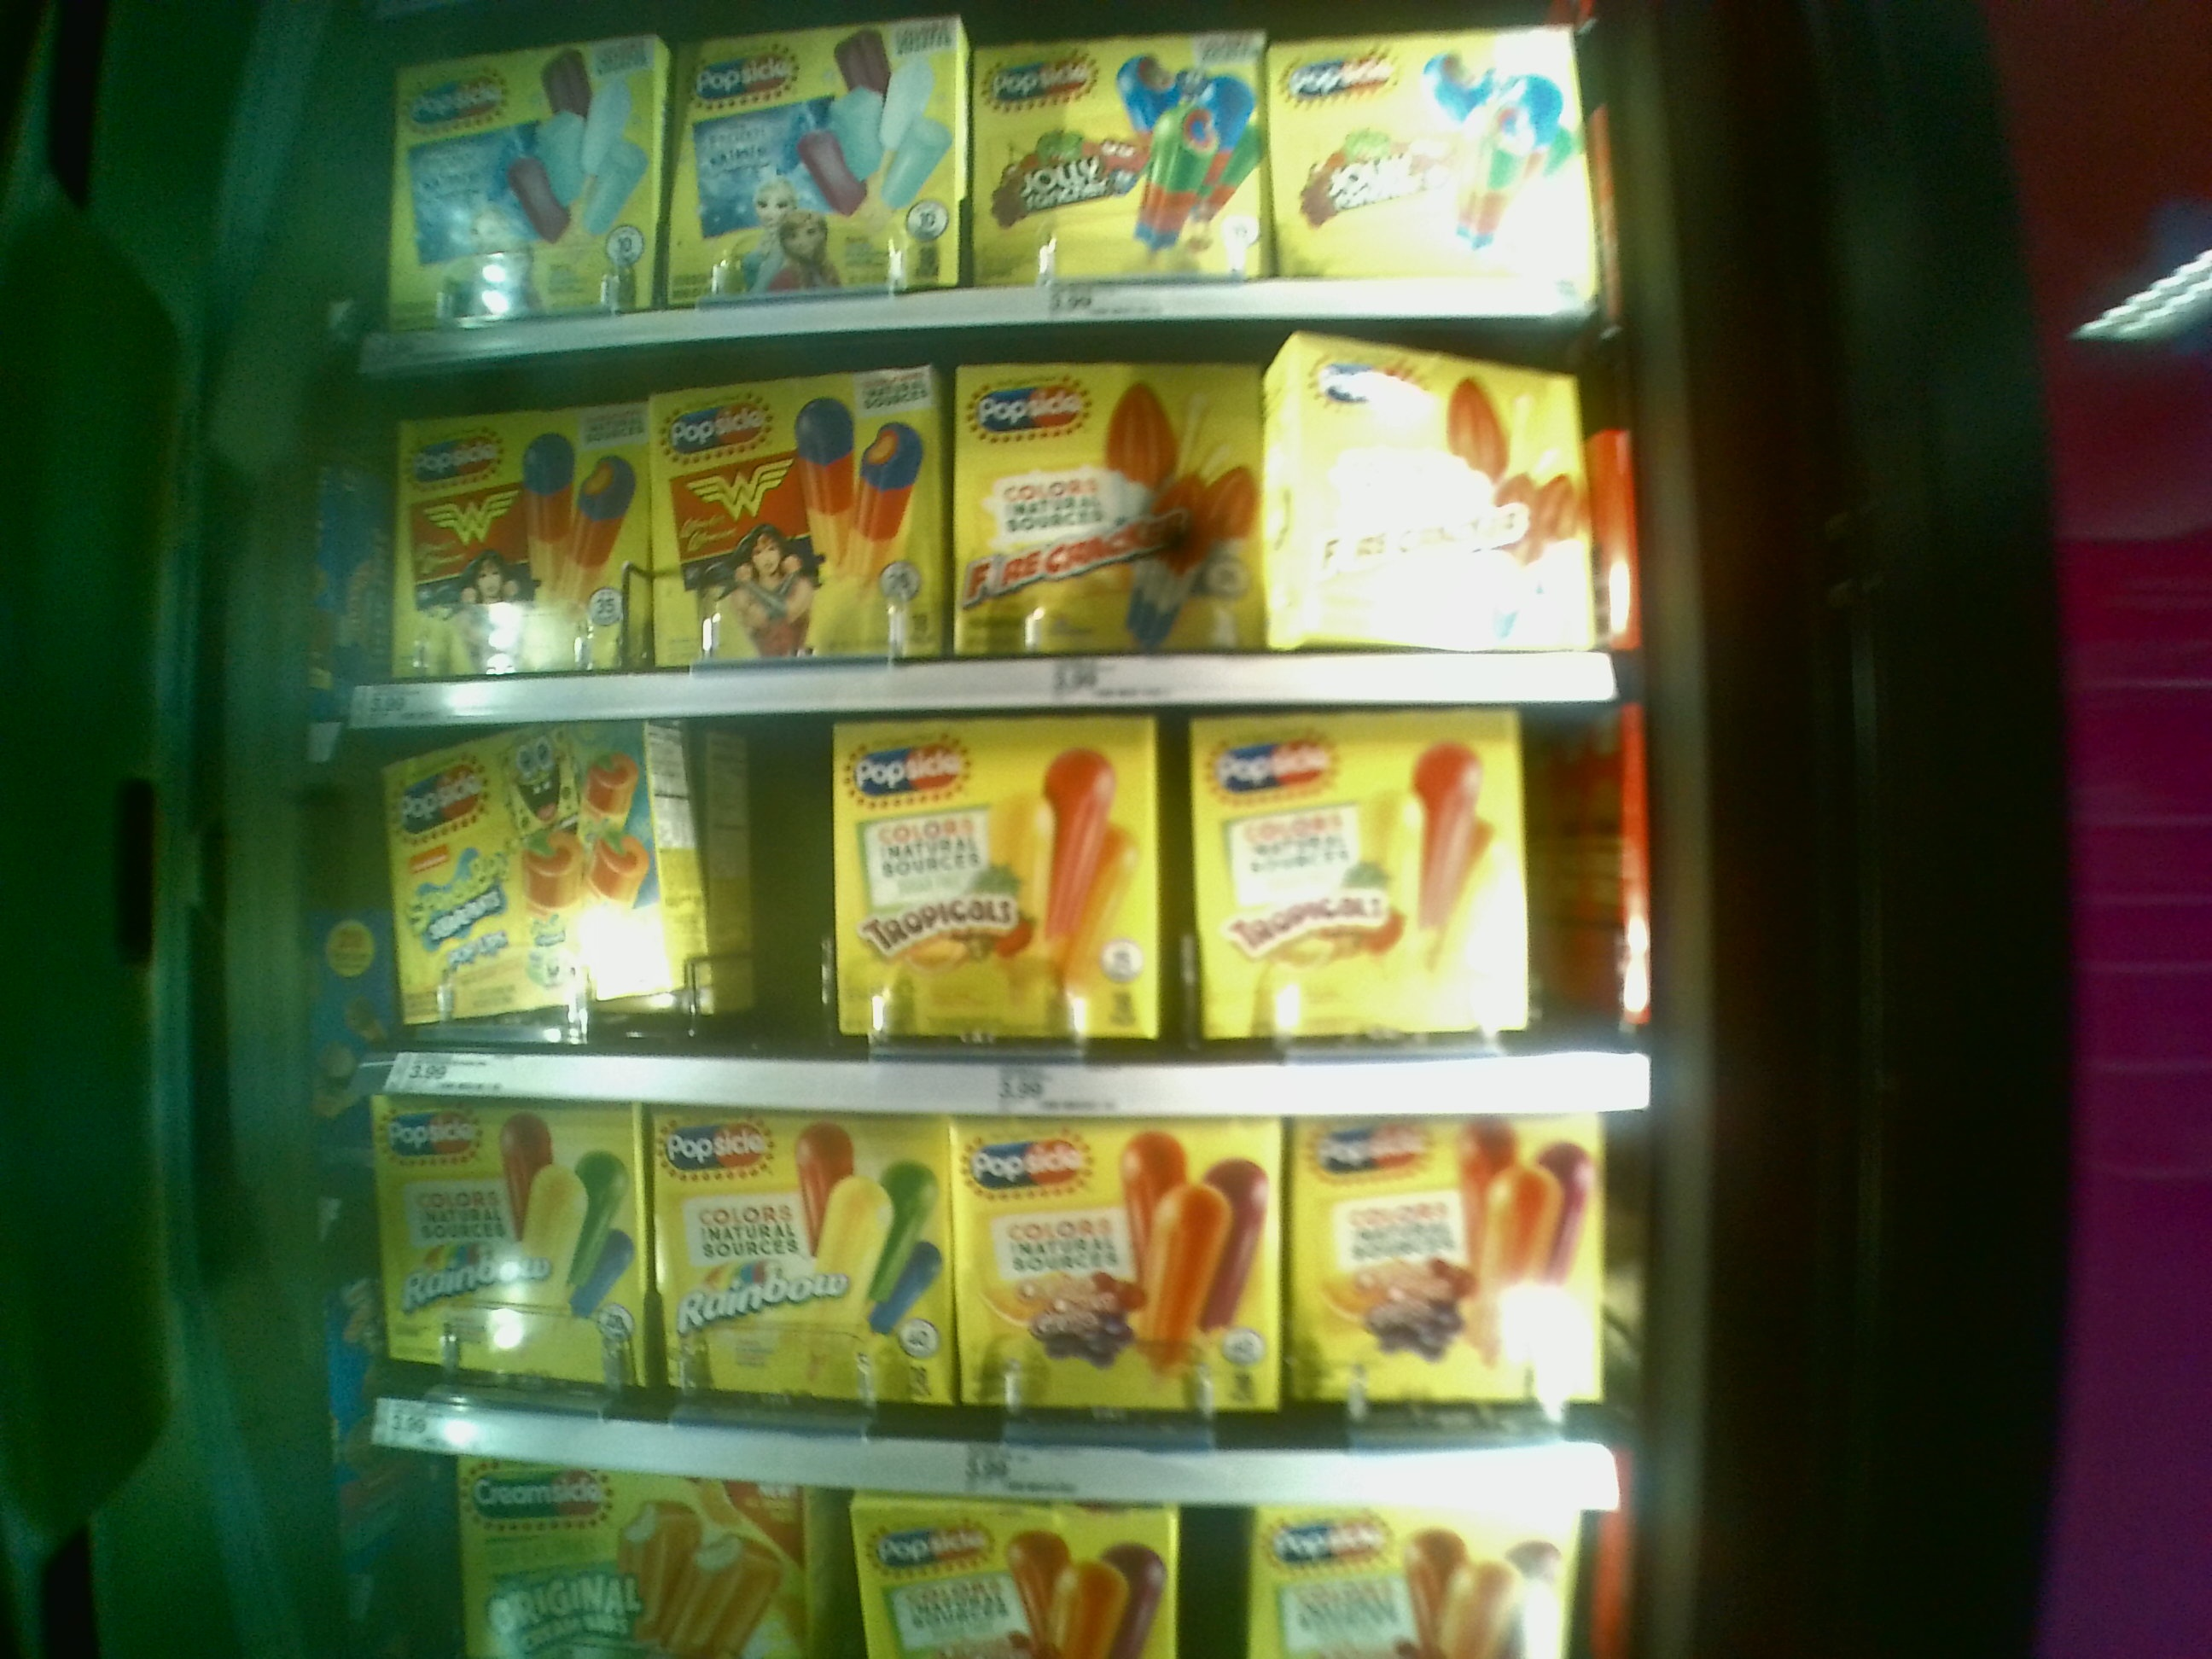shelf: (381, 1082, 1627, 1486), (359, 336, 1623, 723), (366, 725, 1641, 1105)
